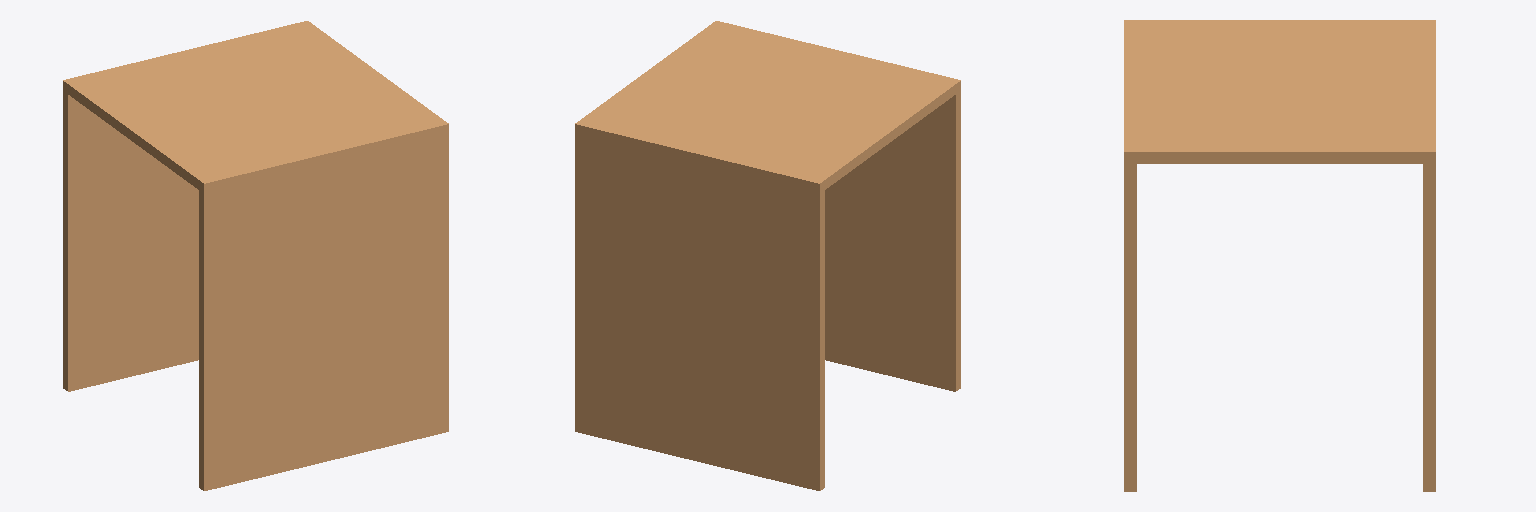
robot.urdf — robot_table:
<?xml version="1.0"?>
<robot name="robot_table">
  <link name="robot_table_origin">
    <visual>
      	<geometry>
          	<mesh filename="package://process_visualizer/resources/table.stl"
                scale="1 1 1"/>
      	</geometry>
	  	<material name="ABS" >
          	<color rgba="0.9 0.7 0.5 1.0" />
         </material> 	
    </visual>
    <inertial>
      <origin xyz="0 0 1" rpy="0 0 0"/>
      <mass value="1"/>
      <inertia
        ixx="1.0" ixy="0.0" ixz="0.0"
        iyy="1.0" iyz="0.0"
        izz="1.0"/>
    </inertial>

  </link>
  <link name="world"/>

  <joint name="fixed" type="fixed">
    <parent link="world"/>
    <child link="robot_table_origin"/>
  </joint>

</robot>

--- Render facts (derived) ---
The picture shows the robot from 3 angles, left to right: view 1: azimuth 30°, elevation 25°; view 2: azimuth 150°, elevation 25°; view 3: azimuth 270°, elevation 25°; orthographic projection.
Model robot_table with 2 links and 1 joints (1 fixed), rooted at world, posed all joints at 0.
Visible links, largest first — view 1: robot_table_origin; view 2: robot_table_origin; view 3: robot_table_origin.
Boxes of the visible links, x1,y1,x2,y2 form: robot_table_origin: (63,21,448,490); robot_table_origin: (575,21,960,490); robot_table_origin: (1124,20,1435,491).
Size in the robot's own frame: 0.25 by 0.25 by 0.3 metres.
1 mesh visuals loaded from 1 distinct referenced files (1 binary STL).